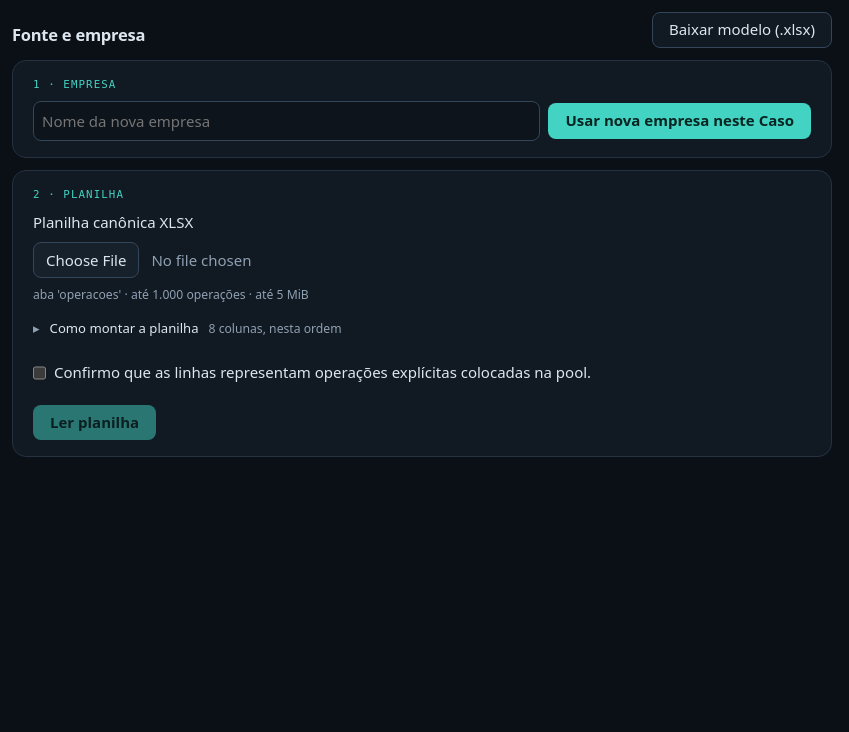
UploadStep › mostra as colunas do modelo, a aba e o limite em "Como montar a planilha"
The width and height of the screenshot is (849, 732).
expect the text "aba 'operacoes' · até 1.000 operações · até 5 MiB" is shown: met, box 33,286 -> 309,303
What coordinates should you click on to do the following:
click the button "Como montar a planilha 8 colunas, nesta ordem"
I would click on:
 (187, 329)
Its box is 33,313 -> 342,345.
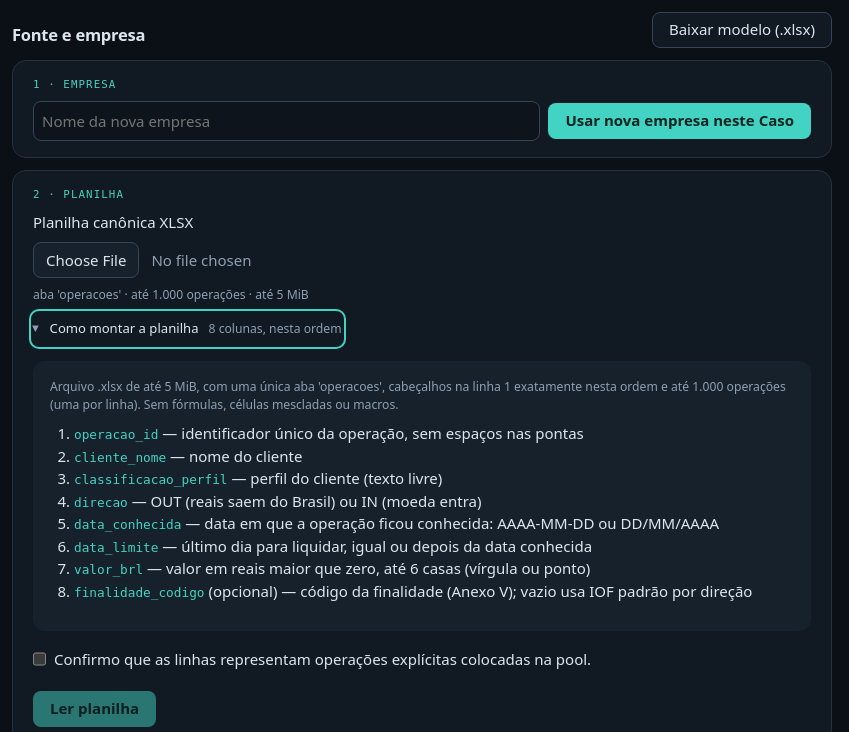
expect the element named "Como montar a planilha" shows "operacao_id": met, box 74,427 -> 158,442
expect the element named "Como montar a planilha" shows "cliente_nome": met, box 74,450 -> 166,465
expect the element named "Como montar a planilha" shows "classificacao_perfil": met, box 74,472 -> 228,487
